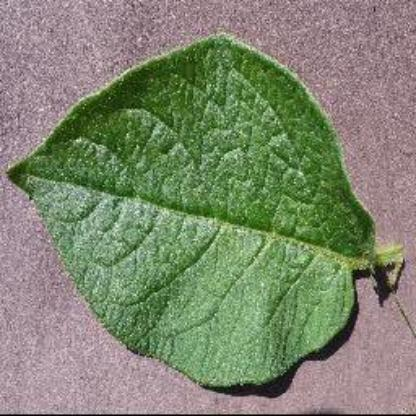Healthy-plant: (5, 28, 385, 402)
